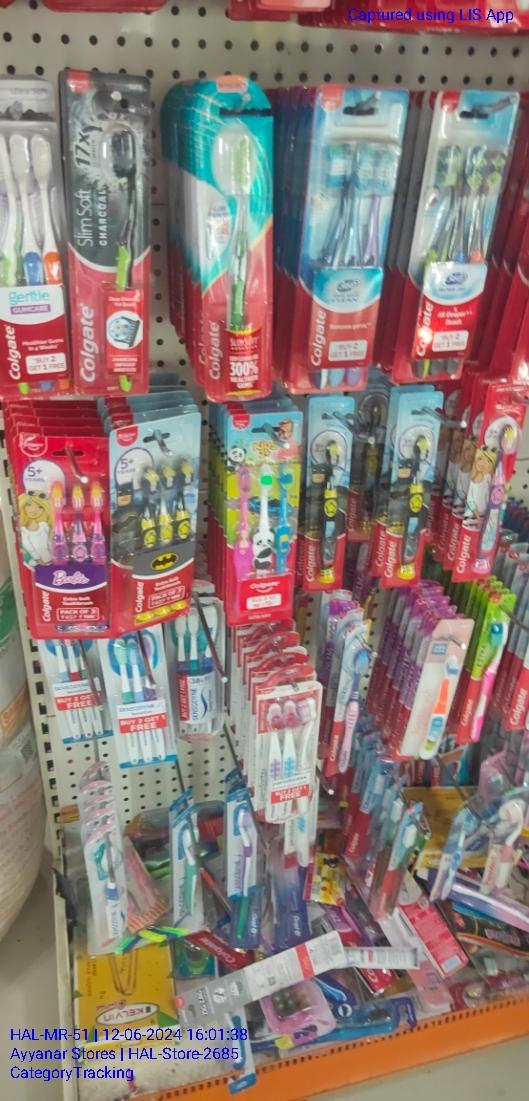5: (168, 616, 216, 742)
soap: (64, 71, 154, 396)
